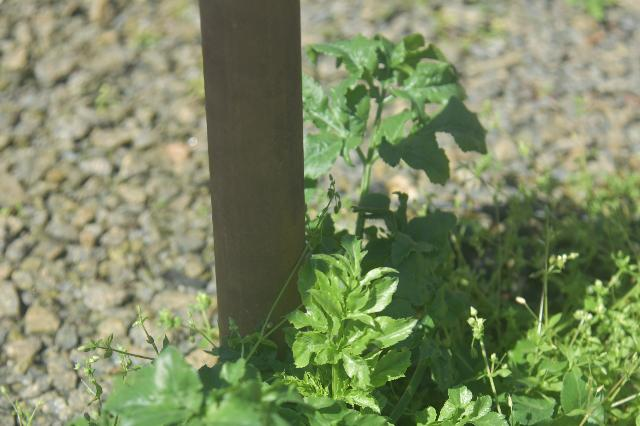MalezaMontesDelPlata: (290, 25, 495, 426), (484, 157, 640, 426), (68, 316, 297, 426), (327, 234, 331, 235)
